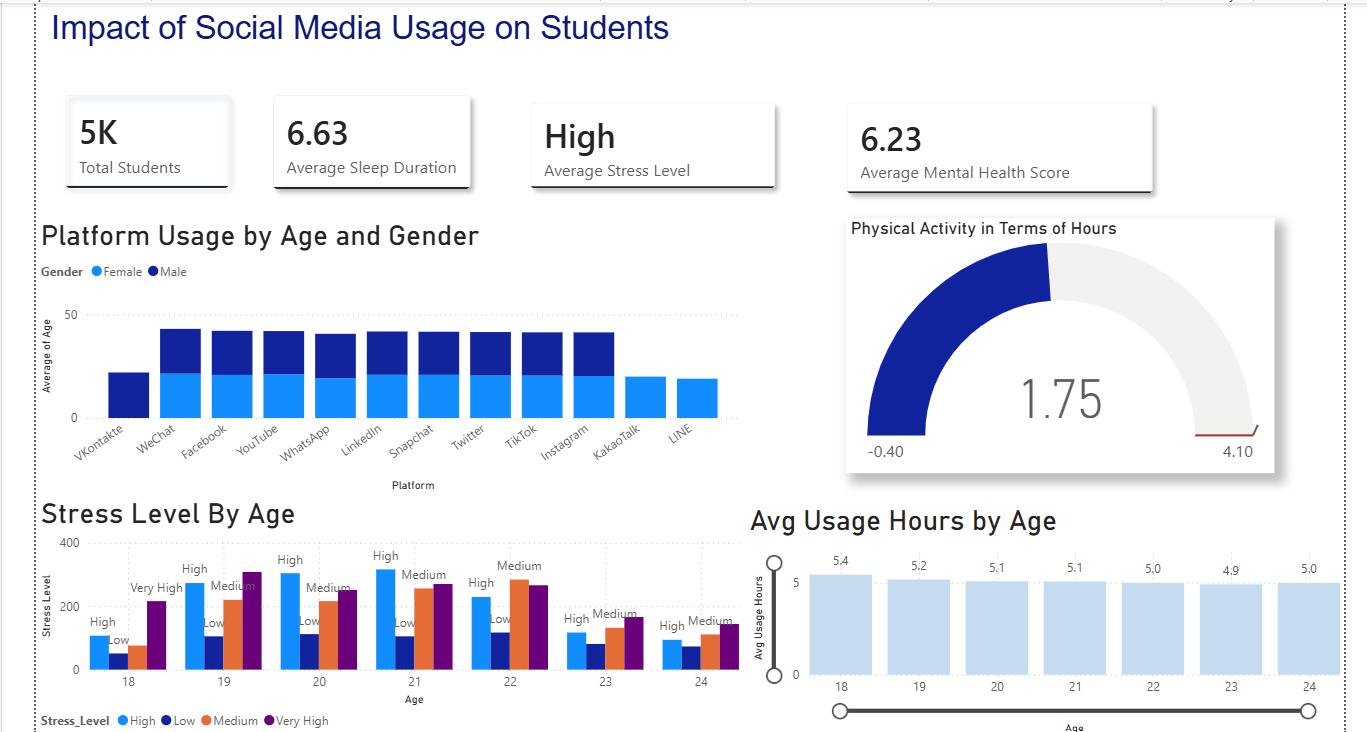

Layout of this report page (visuals, bound fields, positions):
{"tool":"powerbi","page":{"name":"Page 1","canvas":[1280,720],"ordinal":0},"visuals":[{"type":"textbox","box":[10,1.4,1260,52.9],"z":0},{"type":"cardVisual","fields":{"Data":["Student Social Media And Mental.Measure"]},"box":[0,61.7,218.2,149.6],"z":1000},{"type":"columnChart","fields":{"Category":["Student Social Media And Mental.Age"],"Y":["Student Social Media And Mental.Avg Usage Hours"]},"box":[692.9,490,587.1,230],"z":2000},{"type":"clusteredColumnChart","title":"Stress Level By Age","fields":{"Category":["Students.Age"],"Series":["Students.Stress_Level"],"Y":["Students.Count of Stress_Level average per Age 3"]},"box":[0,482.9,692.9,237.1],"z":3000},{"type":"cardVisual","fields":{"Data":["Avg(Students.Sleep_Hours_Per_Night)"]},"box":[202.9,61.4,251.4,150],"z":4000},{"type":"cardVisual","fields":{"Data":["Min(Students.Stress_Level)"]},"box":[454.3,68.6,297.1,142.9],"z":5000},{"type":"cardVisual","fields":{"Data":["Avg(Students.Mental_Health_Score)"]},"box":[764.3,68.6,357.1,147.1],"z":6000},{"type":"lineStackedColumnComboChart","title":"Platform Usage by Age and Gender","fields":{"Y":["Avg(Students.Age)"],"Category":["Students.Most_Used_Platform"],"Series":["Students.Gender"]},"box":[0,211.4,692.9,271.4],"z":7000},{"type":"gauge","title":"Physical Activity in Terms of Hours","fields":{"Y":["Avg(Students.Physical_Activity_Hours)"],"MinValue":["Min(Students.Physical_Activity_Hours)1"],"MaxValue":["Max(Students.Physical_Activity_Hours)2"]},"box":[792.4,210.3,419.4,249.5],"z":8000}]}

Visuals, with their boxes on the page's 1280x720 design canvas (x1, y1, x2, y2). These are canvas units, not pixel positions in the 1367x732 screenshot, which may show the page scaled, cropped or inside an application window:
textbox: rect(10, 1, 1270, 54)
cardVisual - Student Social Media And Mental.Measure: rect(0, 62, 218, 211)
columnChart - Student Social Media And Mental.Age x Student Social Media And Mental.Avg Usage Hours: rect(693, 490, 1280, 720)
"Stress Level By Age" clusteredColumnChart: rect(0, 483, 693, 720)
cardVisual - Avg(Students.Sleep_Hours_Per_Night): rect(203, 61, 454, 211)
cardVisual - Min(Students.Stress_Level): rect(454, 69, 751, 212)
cardVisual - Avg(Students.Mental_Health_Score): rect(764, 69, 1121, 216)
"Platform Usage by Age and Gender" lineStackedColumnComboChart: rect(0, 211, 693, 483)
"Physical Activity in Terms of Hours" gauge: rect(792, 210, 1212, 460)
